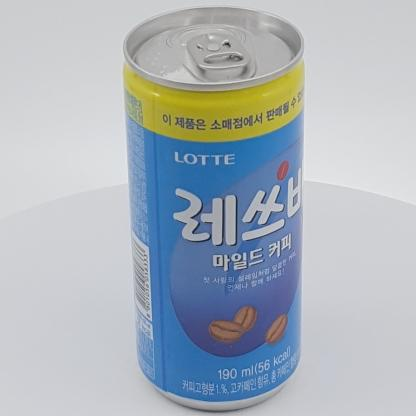------190ml: (122, 6, 306, 411)
